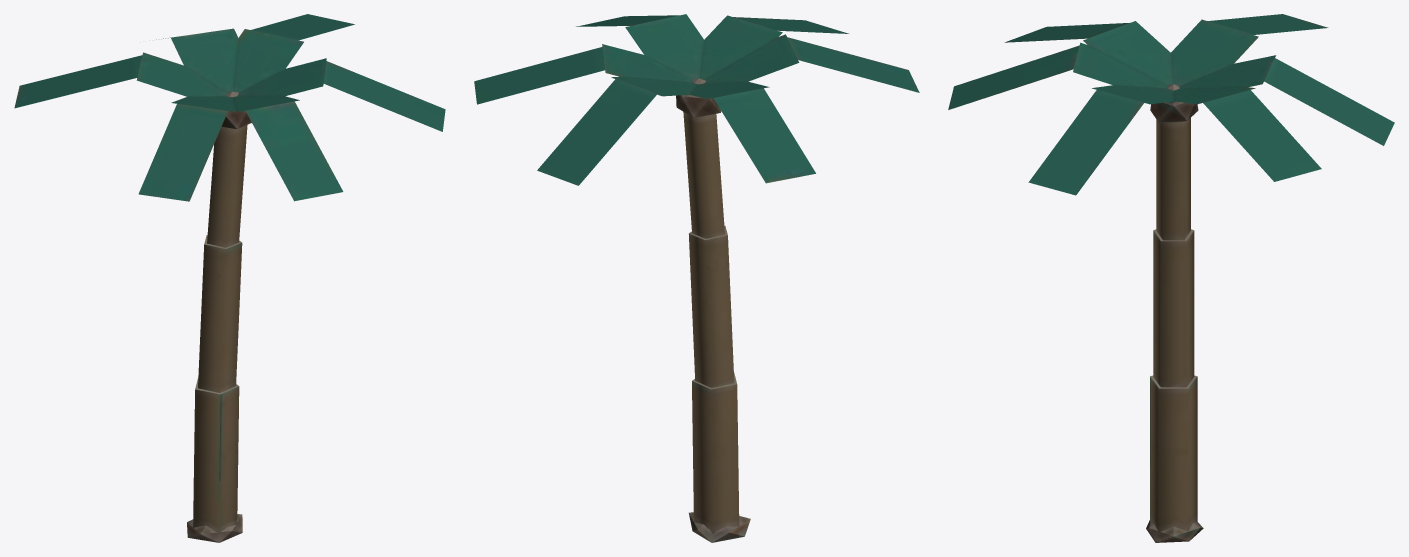
The model's file is palm_1.glb.
3 views of the same model, side by side, from view 1: azimuth 30°, elevation 25°; view 2: azimuth 150°, elevation 25°; view 3: azimuth 270°, elevation 25° (orthographic). The views are drawn at different scales.
Visible parts, largest first — view 1: te_prop_palm_1; view 2: te_prop_palm_1; view 3: te_prop_palm_1.
Boxes of the visible parts, box(x1,y1,x2,y2) form: te_prop_palm_1: box(14, 14, 445, 542); te_prop_palm_1: box(474, 14, 919, 542); te_prop_palm_1: box(948, 14, 1394, 542).
Size of the model in its own units: 0.3606 by 0.4666 by 0.3934.
Materials: 1 (1 with a texture image).
